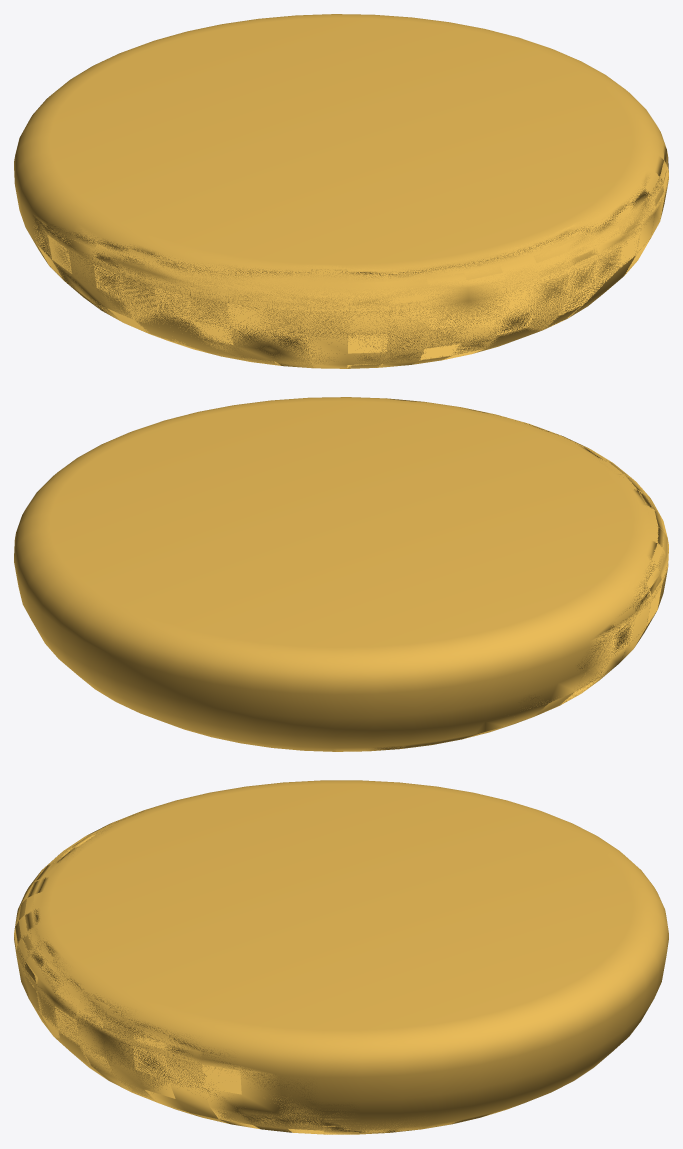
File: panAbajo.glb
The picture shows the model from 3 angles, top to bottom: view 1: azimuth 30°, elevation 25°; view 2: azimuth 150°, elevation 25°; view 3: azimuth 270°, elevation 25°; orthographic projection.
Visible parts, largest first — view 1: Cilindro.001; view 2: Cilindro.001; view 3: Cilindro.001.
Part boxes in pixels (x1,y1,x2,y2): Cilindro.001: (14, 14, 668, 368); Cilindro.001: (14, 397, 668, 751); Cilindro.001: (14, 780, 668, 1134).
Size of the model in its own units: 3.6 by 0.7955 by 3.61.
